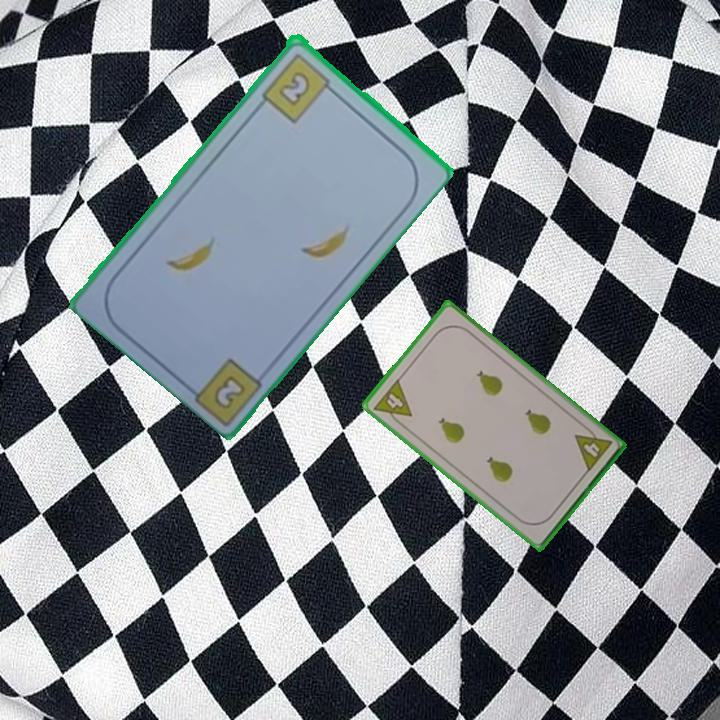2b: (258, 48, 338, 125), (213, 374, 245, 409)
4p: (369, 375, 415, 430), (571, 422, 615, 475)
